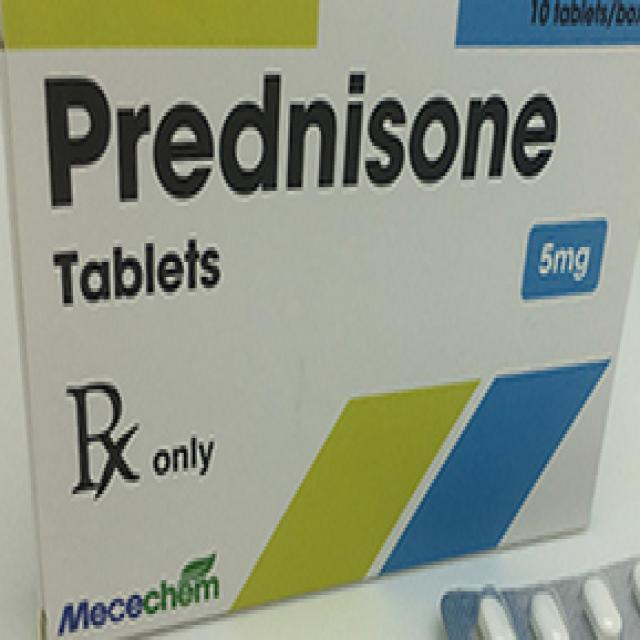drug-name: (33, 55, 559, 226)
